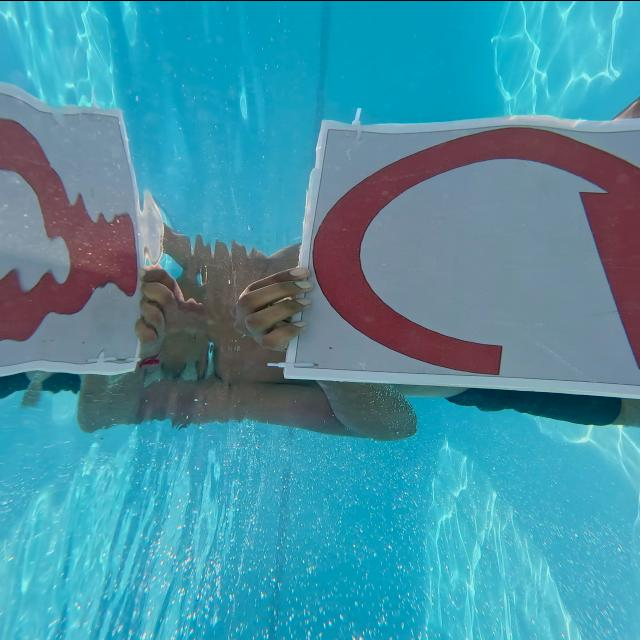red_side: (274, 119, 640, 383)
